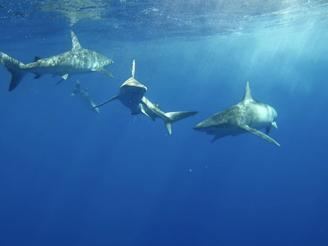Shark -Selachimorpha-: (86, 52, 196, 141), (190, 72, 297, 157), (0, 25, 118, 96)
